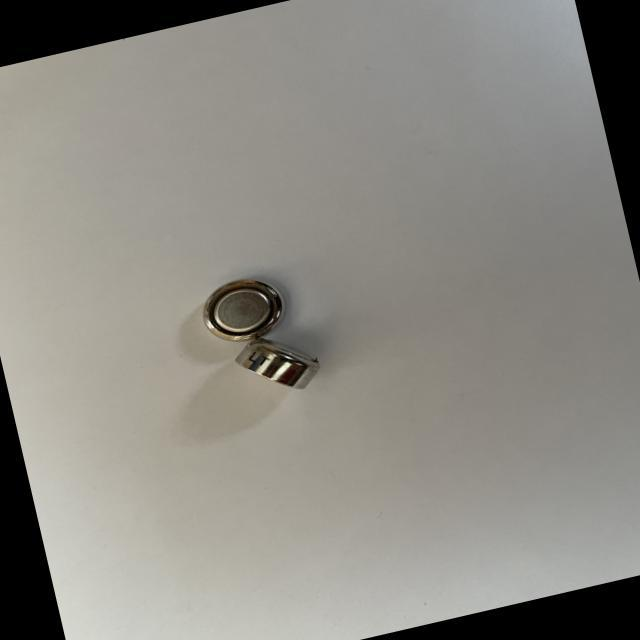COIN: (194, 269, 290, 348), (230, 324, 324, 401)
